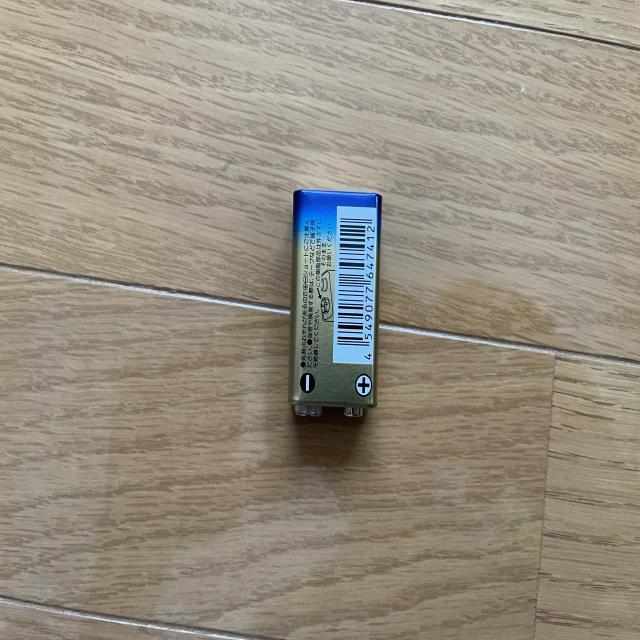9V: (288, 188, 382, 424)
